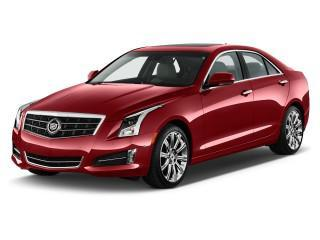cadillac: (46, 117, 63, 137)
